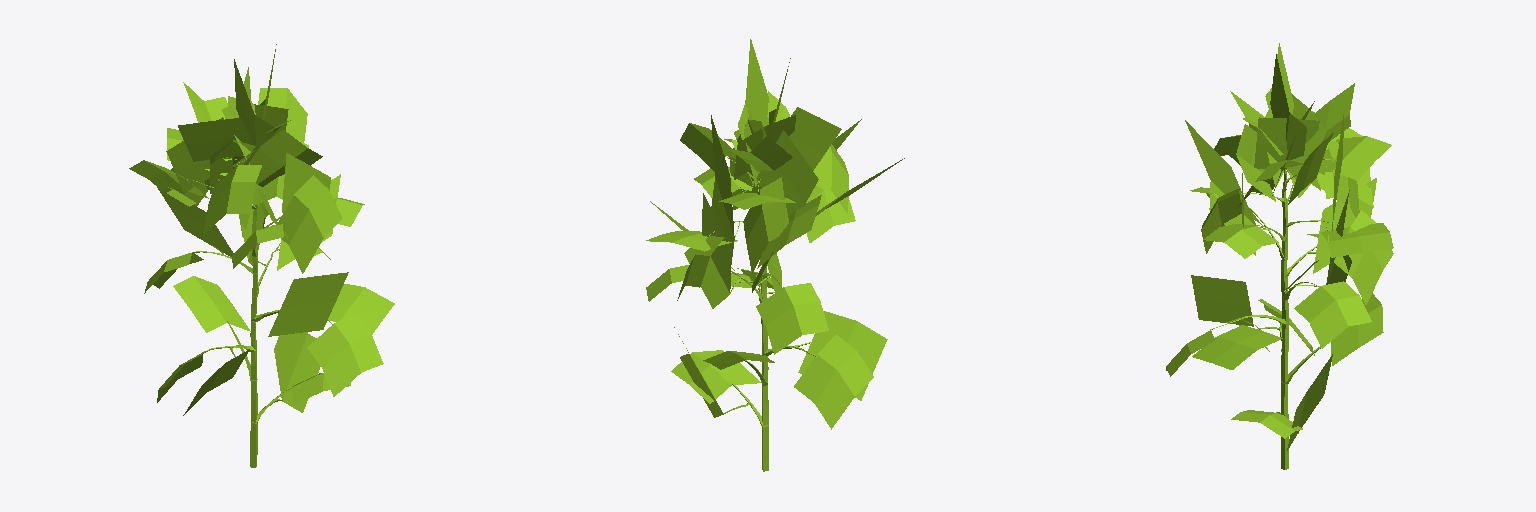
File: small_oak.obj
The picture shows the model from 3 angles: view 1: azimuth 30°, elevation 25°; view 2: azimuth 150°, elevation 25°; view 3: azimuth 270°, elevation 25°; orthographic projection.
Visible parts, largest first — view 1: Oak_Leav; view 2: Oak_Leav; view 3: Oak_Leav.
Boxes of the visible parts, x1=… form: Oak_Leav: x1=129, y1=44, x2=394, y2=467; Oak_Leav: x1=646, y1=39, x2=904, y2=471; Oak_Leav: x1=1166, y1=43, x2=1393, y2=469.
Bounding box in the file's own units: 1.51 × 2.65 × 1.29.